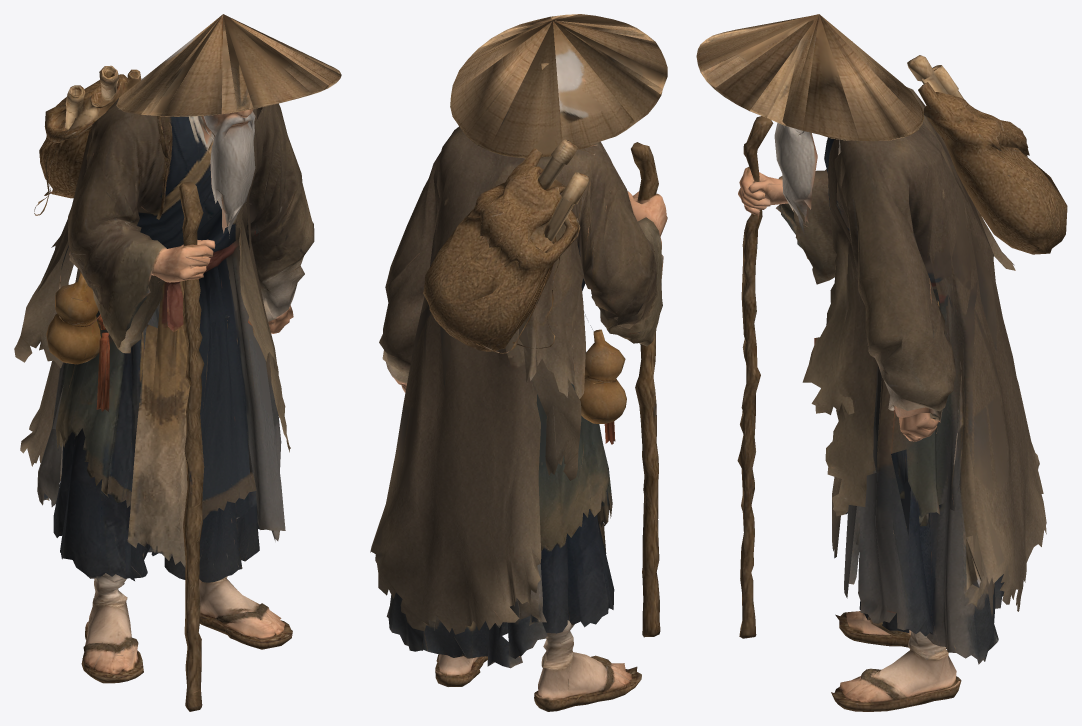
The model's file is QuestKeeper_WanderingSage.fbx.
The picture shows the model from 3 angles, left to right: view 1: azimuth 30°, elevation 25°; view 2: azimuth 150°, elevation 25°; view 3: azimuth 270°, elevation 25°; orthographic projection. The views are drawn at different scales.
Visible parts, largest first — view 1: Mesh_0; view 2: Mesh_0; view 3: Mesh_0.
Boxes of the visible parts, x1,y1,x2,y2 form: Mesh_0: (14, 14, 341, 711); Mesh_0: (370, 14, 667, 711); Mesh_0: (696, 14, 1067, 711).
Bounding box in the file's own units: 38.04 × 95.07 × 48.54.
1 material, 1 textured.
